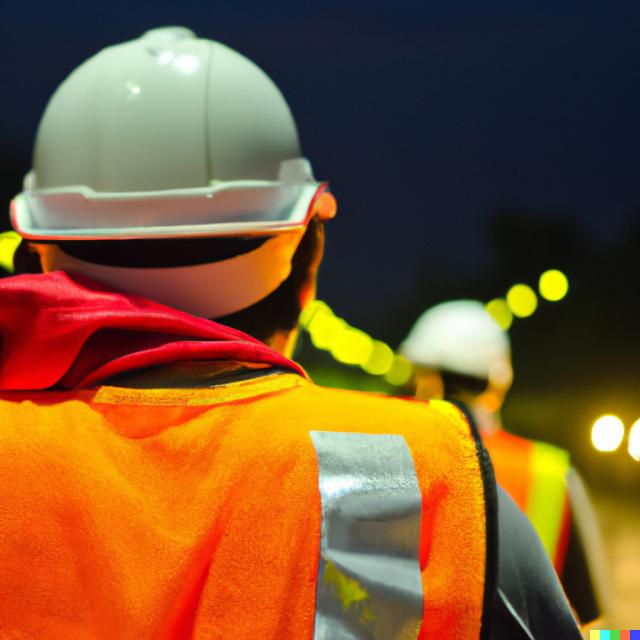Reflective-Jacket: (2, 292, 530, 638)
Safety-Helmet: (4, 24, 339, 248), (385, 294, 517, 392)
